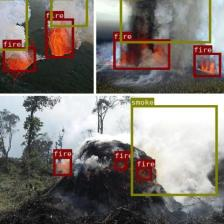fire: (113, 39, 169, 69), (45, 18, 73, 58), (3, 47, 36, 71), (192, 52, 220, 76), (53, 156, 72, 175), (136, 166, 152, 180), (114, 158, 127, 170)
smoke: (130, 105, 217, 196), (119, 0, 210, 43), (0, 0, 27, 49), (50, 0, 87, 26)
